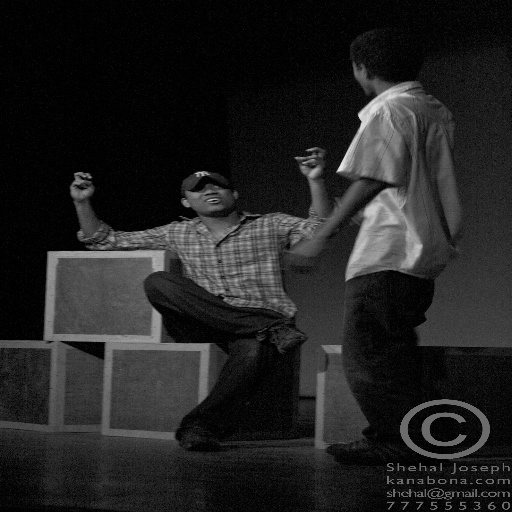hand: (286, 241, 324, 273), (293, 147, 327, 180), (68, 172, 95, 201), (347, 208, 365, 227)
